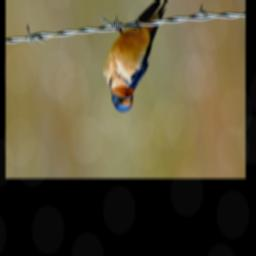Swallow: (102, 0, 172, 113)
